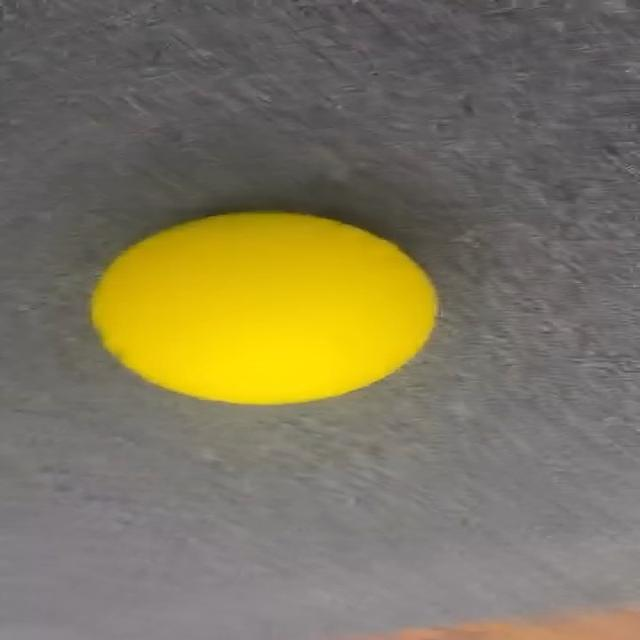Fuels: (91, 209, 434, 405)
